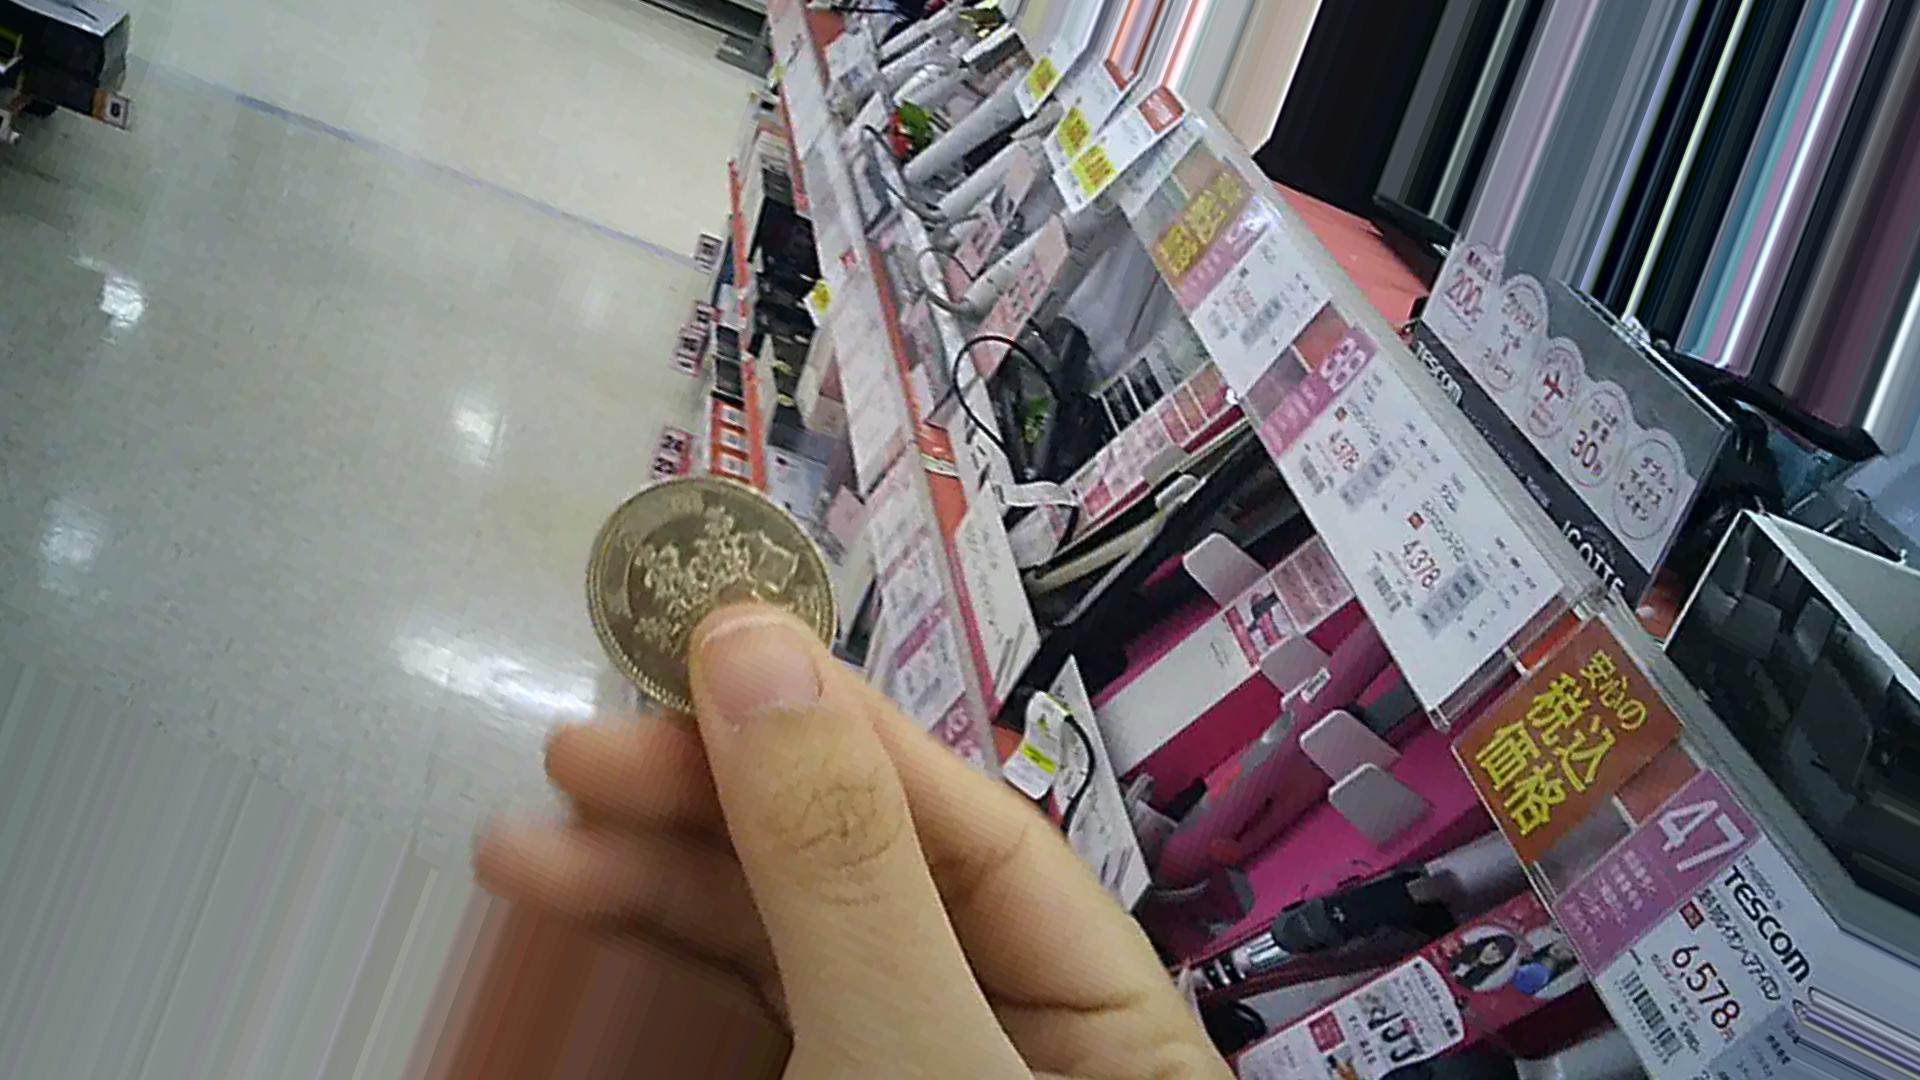500 Yen: (584, 477, 843, 724)
